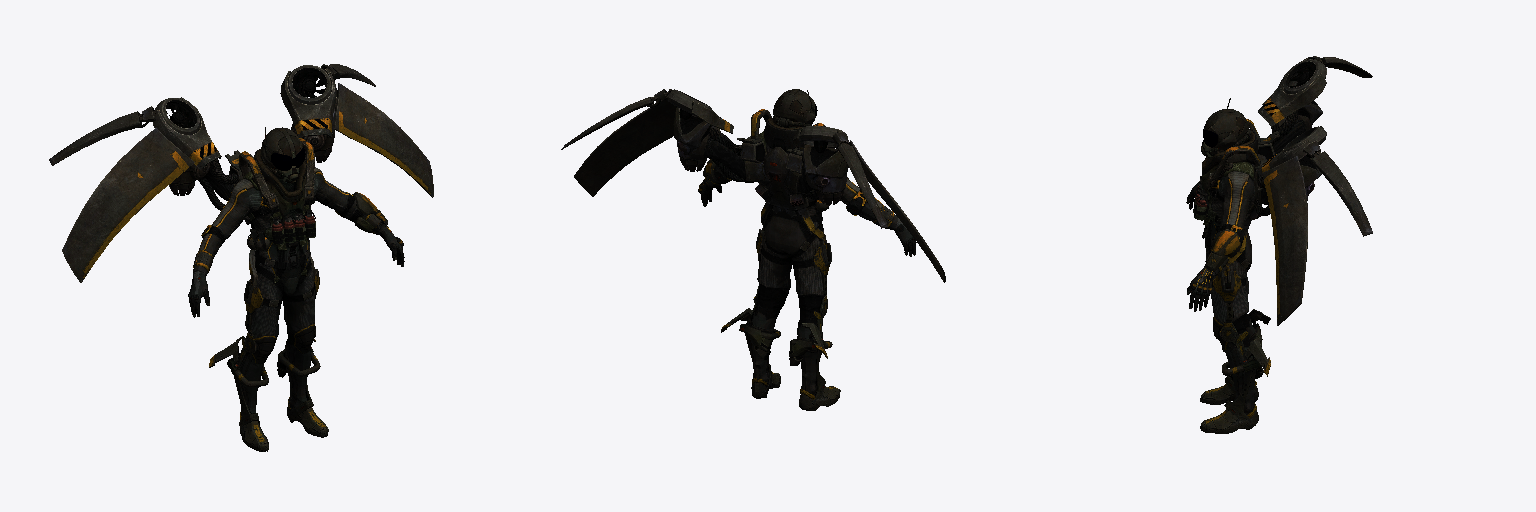
3 renders of one model, left to right at view 1: azimuth 30°, elevation 25°; view 2: azimuth 150°, elevation 25°; view 3: azimuth 270°, elevation 25°, orthographic.
Visible parts, largest first — view 1: FireflyJetpack, FireflyLegs, FireflyChest, FireflyHead; view 2: FireflyJetpack, FireflyLegs, FireflyChest, FireflyHead; view 3: FireflyJetpack, FireflyLegs, FireflyChest, FireflyHead.
Part boxes in pixels (x1,y1,x2,y2): FireflyJetpack: (49,64,433,290); FireflyLegs: (209,248,328,451); FireflyChest: (188,149,404,317); FireflyHead: (261,127,305,183); FireflyJetpack: (561,89,945,282); FireflyLegs: (721,209,840,410); FireflyChest: (698,118,916,256); FireflyHead: (773,89,817,127); FireflyJetpack: (1207,56,1372,325); FireflyLegs: (1200,231,1270,433); FireflyChest: (1186,131,1257,311); FireflyHead: (1201,98,1251,157).
Size of the model in its own units: 4.64 by 3.87 by 2.05.
4 materials, 4 textured.